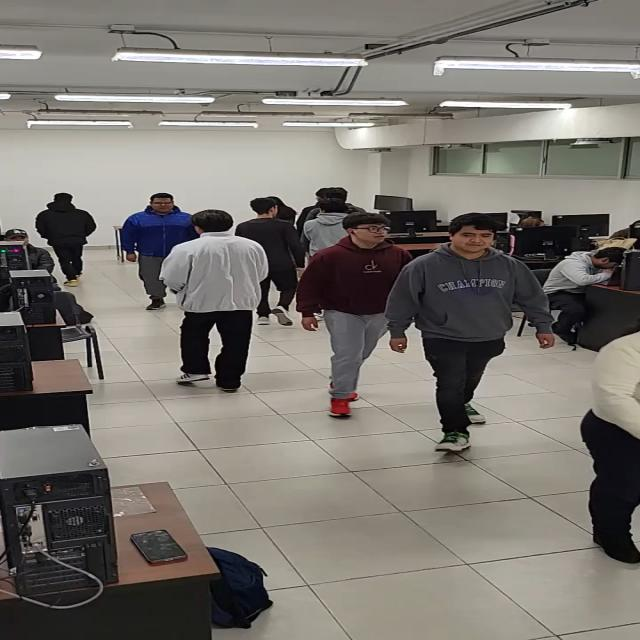Persona: (400, 212, 558, 456), (297, 208, 402, 424), (162, 207, 265, 394), (121, 188, 183, 305), (37, 185, 98, 290)
